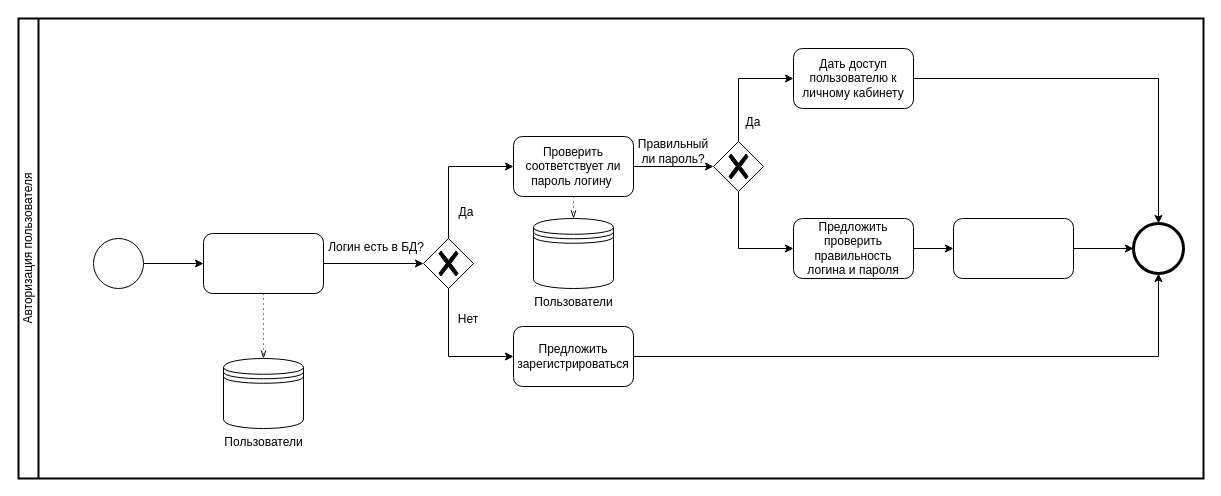
Image size: 1221x496. Some labels were removed from this diagram. The centre of each missing label's shape, as x and y in pixels:
"Еще раз запросить пароль" goes at (1013,248).
"Пользователь ввел логин и пароль" goes at (118,263).
"Проверить существует ли в БД указанный логин" goes at (263,263).
